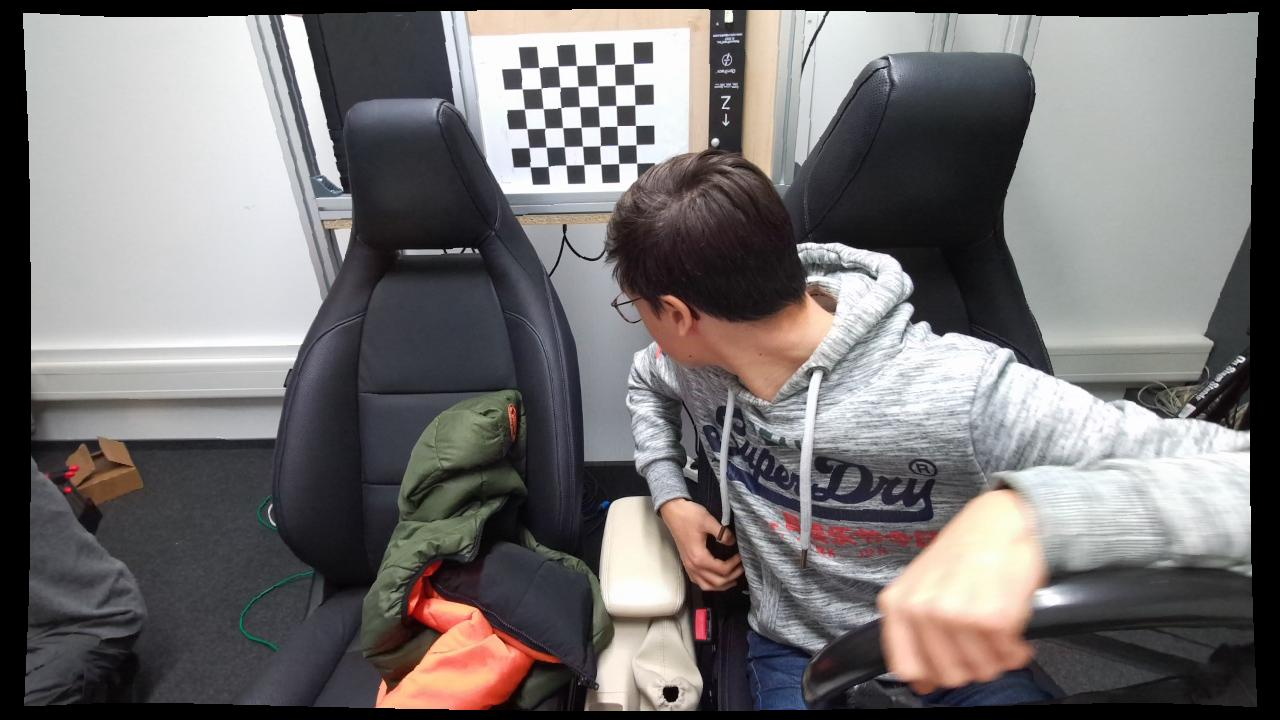Distracted: (603, 133, 1013, 712)
